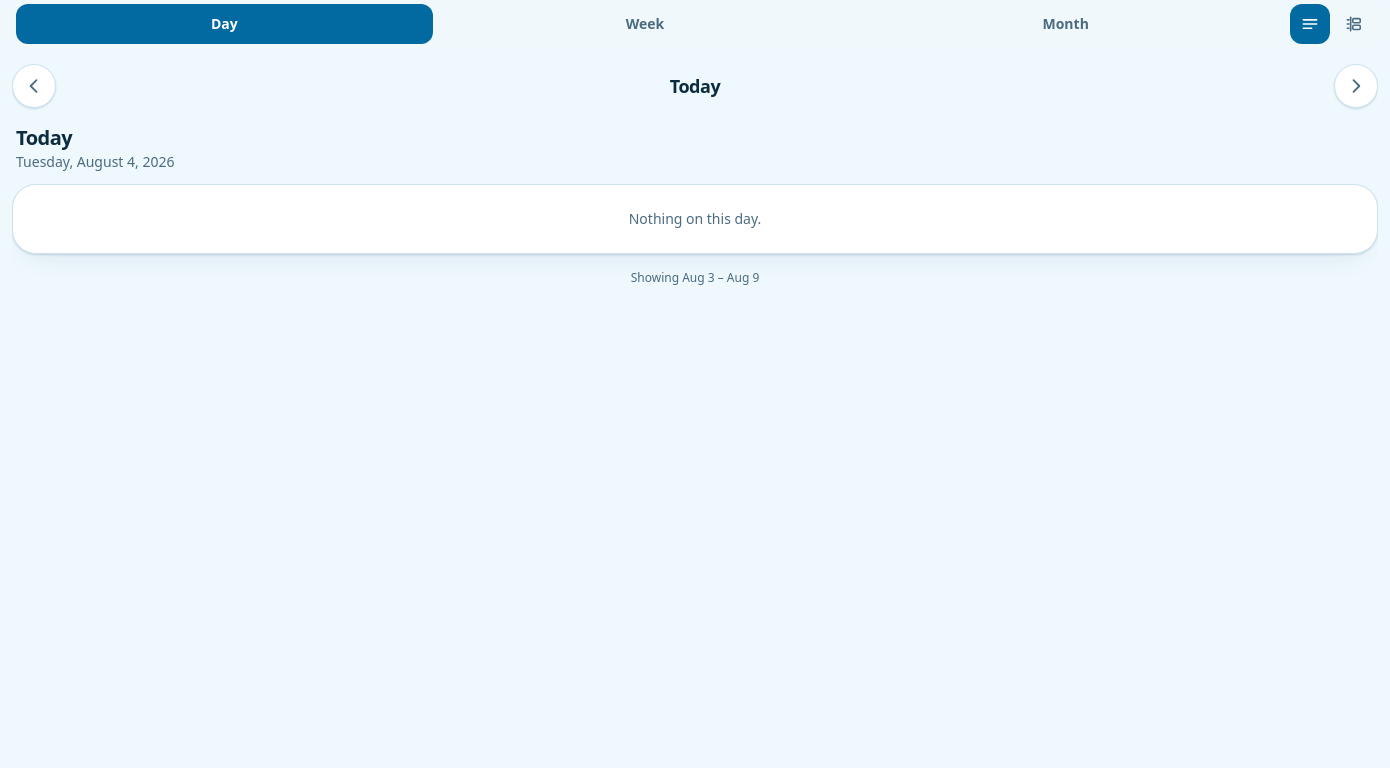
Test case: the calendar board › disables the arrow at the edge of the expanded window
Click the tab "Week" at (645, 24), box x1=437 y1=4 x2=853 y2=44
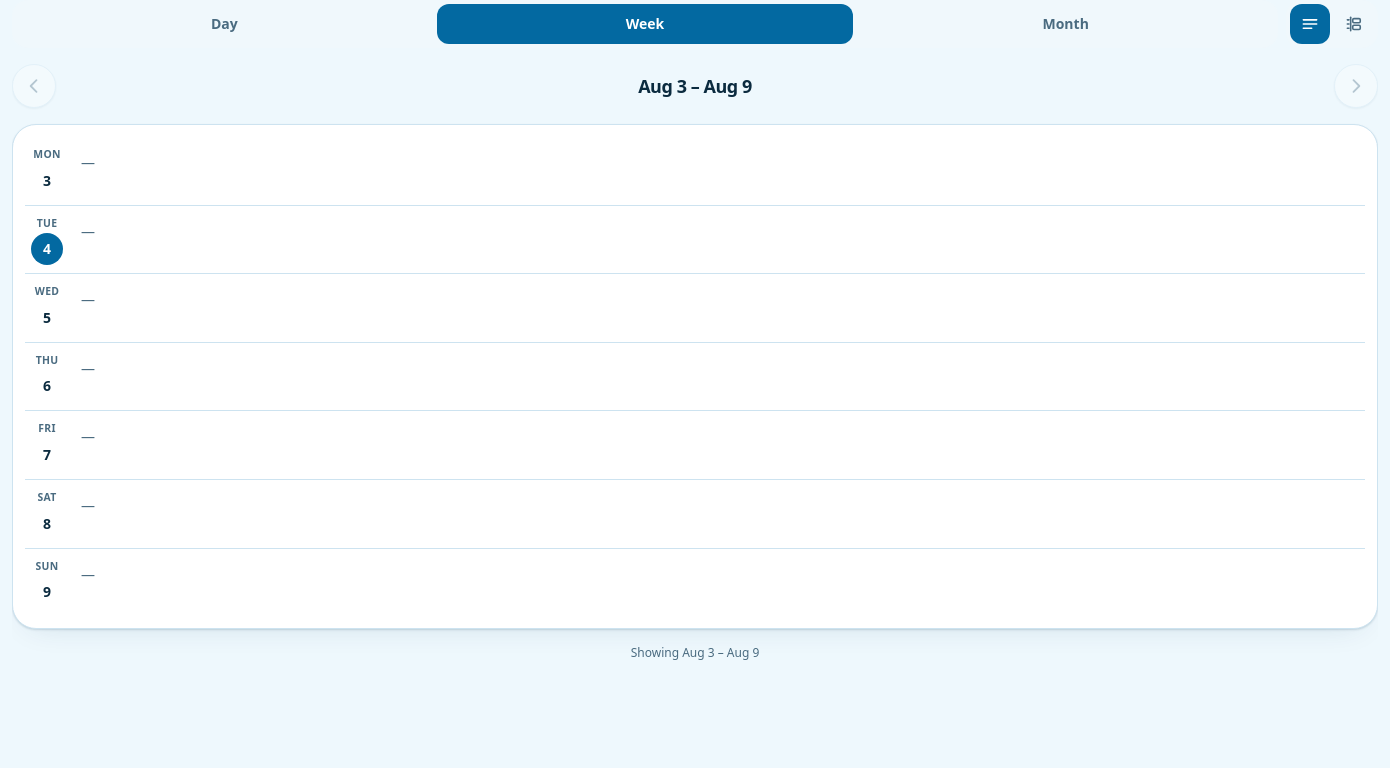
Expected: the button named "Previous" is disabled, x1=12 y1=64 x2=56 y2=108
Expected: the button named "Next" is disabled, x1=1334 y1=64 x2=1378 y2=108
